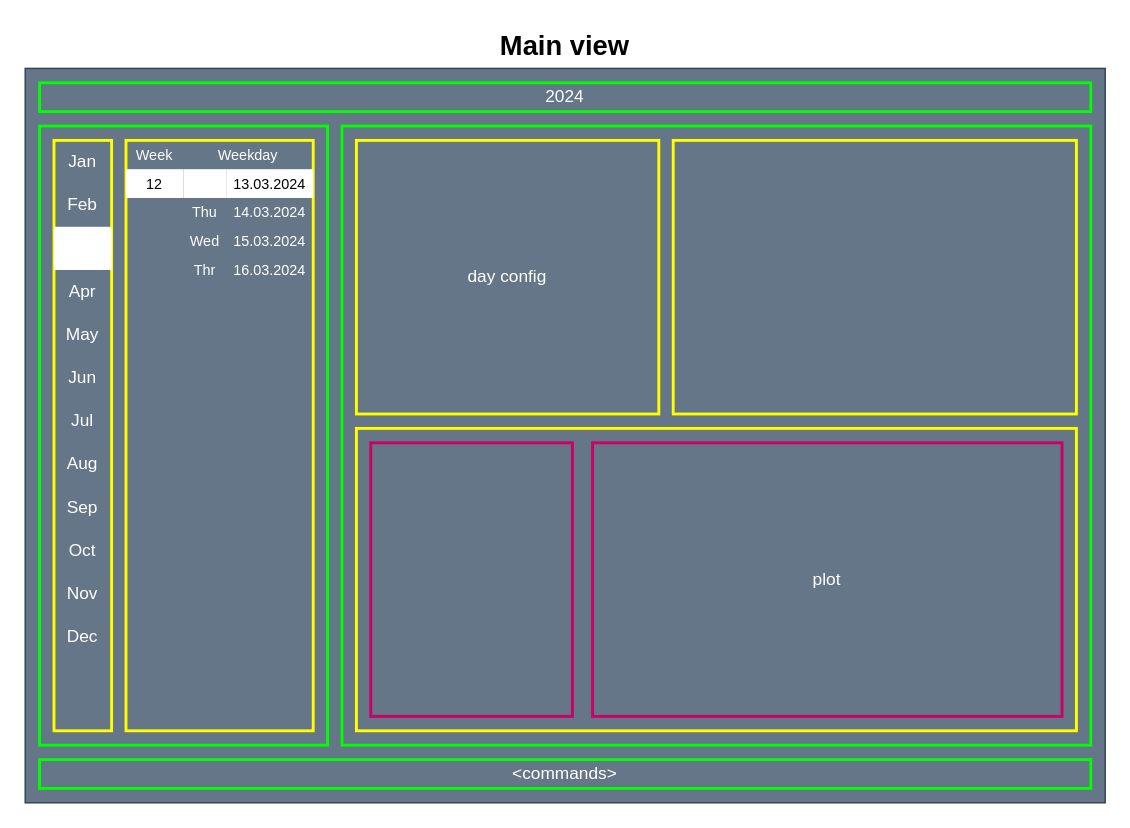
The diagram is 1130 pixels wide and 828 high, and some of its shapes have lost their labels. Here are the shapes that lost their labels. From the top down, the centre of each, then its label:
At point (204, 182): "Mon".
At point (82, 247): "Mar".
At point (874, 276): "week analysis".
At point (471, 579): "stats".
